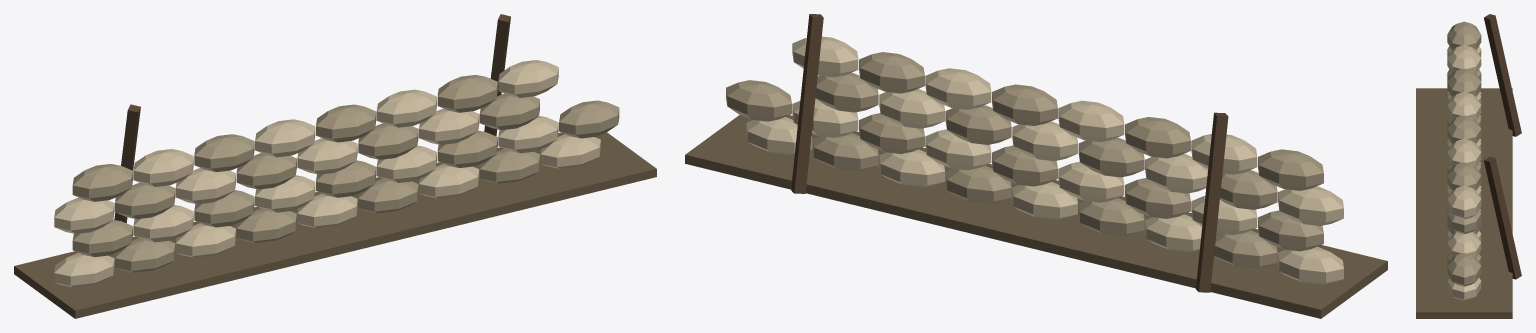
Rendered from K_Sandbags.glb.
3 views of the same model, side by side, from view 1: azimuth 30°, elevation 25°; view 2: azimuth 150°, elevation 25°; view 3: azimuth 270°, elevation 25° (orthographic). The views are drawn at different scales.
Parts seen in each view (by area): view 1: K_Sandbags_Structure, K_Sandbags_Foundation, K_Sandbags_Props; view 2: K_Sandbags_Structure, K_Sandbags_Foundation, K_Sandbags_Props; view 3: K_Sandbags_Foundation, K_Sandbags_Structure, K_Sandbags_Props.
Boxes of the visible parts, x1=… form: K_Sandbags_Structure: x1=54, y1=60, x2=619, y2=287; K_Sandbags_Foundation: x1=14, y1=132, x2=656, y2=318; K_Sandbags_Props: x1=114, y1=14, x2=510, y2=223; K_Sandbags_Structure: x1=726, y1=36, x2=1343, y2=284; K_Sandbags_Foundation: x1=685, y1=115, x2=1387, y2=318; K_Sandbags_Props: x1=791, y1=14, x2=1228, y2=292; K_Sandbags_Foundation: x1=1416, y1=88, x2=1512, y2=318; K_Sandbags_Structure: x1=1447, y1=21, x2=1481, y2=300; K_Sandbags_Props: x1=1484, y1=14, x2=1521, y2=279.
Size of the model in its own units: 4.4 by 1.1 by 0.8783.
